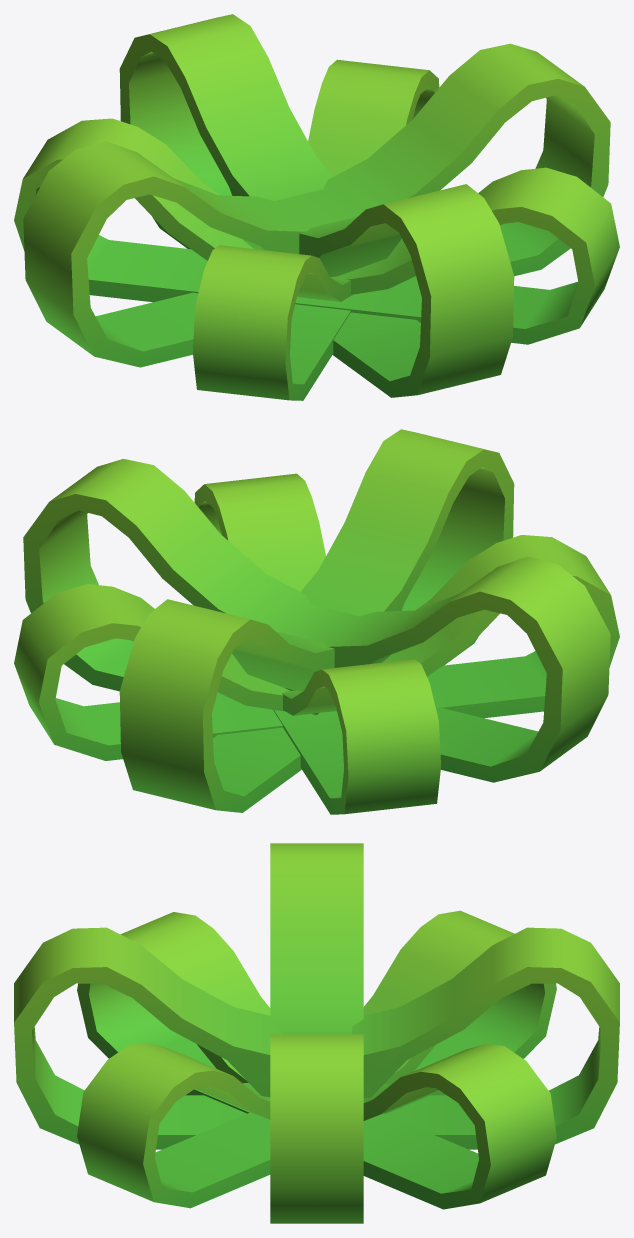
The model's file is bow_008.fbx.
3 views of the same model, one above another, from view 1: azimuth 30°, elevation 25°; view 2: azimuth 150°, elevation 25°; view 3: azimuth 270°, elevation 25° (orthographic). The views are drawn at different scales.
Parts seen in each view (by area): view 1: bow_008; view 2: bow_008; view 3: bow_008.
Part boxes in pixels (x1,y1,x2,y2): bow_008: (14, 14, 619, 400); bow_008: (14, 429, 619, 814); bow_008: (14, 843, 619, 1223).
Bounding box in the file's own units: 195 × 195 × 65.41.
